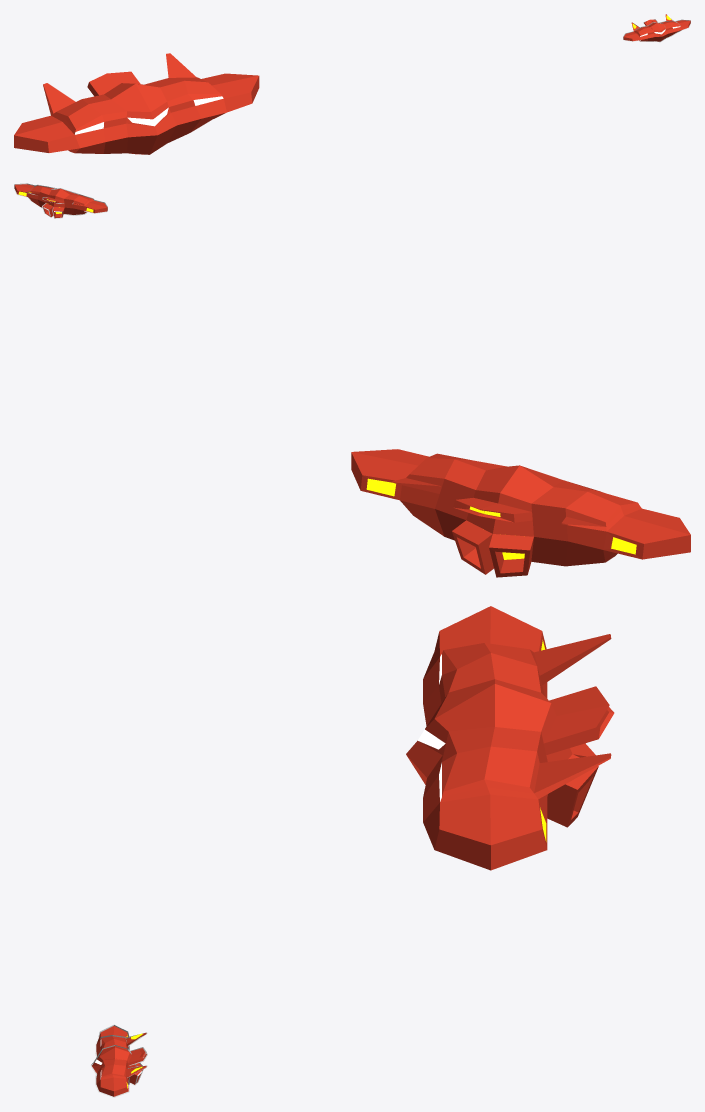
The model's file is webspaceship.glb.
3 views of the same model, one above another, from view 1: azimuth 30°, elevation 25°; view 2: azimuth 150°, elevation 25°; view 3: azimuth 270°, elevation 25° (orthographic). The views are drawn at different scales.
Parts seen in each view (by area): view 1: Cube.001, cartoon; view 2: Cube.001, cartoon; view 3: Cube.001, cartoon.
Boxes of the visible parts, x1=… form: Cube.001: x1=14, y1=53, x2=259, y2=154; cartoon: x1=623, y1=14, x2=690, y2=42; Cube.001: x1=351, y1=449, x2=690, y2=577; cartoon: x1=14, y1=183, x2=107, y2=218; Cube.001: x1=406, y1=606, x2=614, y2=870; cartoon: x1=90, y1=1025, x2=147, y2=1097.
Size of the model in its own units: 14.54 by 2.32 by 5.66.
